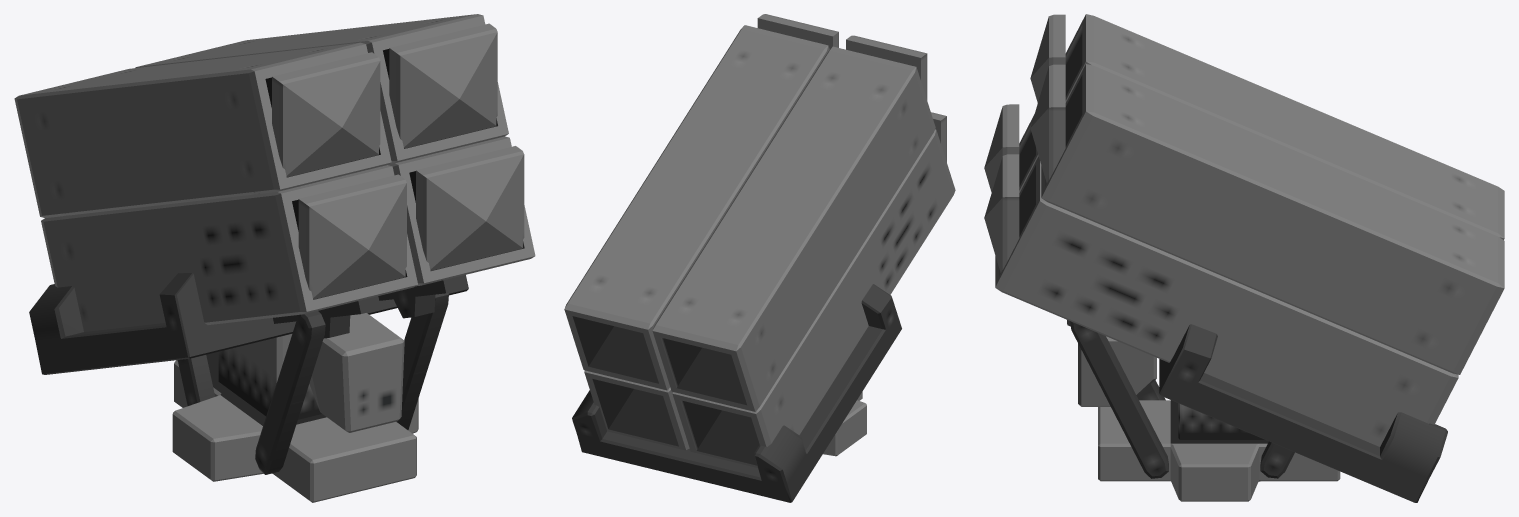
File: surface_missile_launcher.fbx
3 views of the same model, side by side, from view 1: azimuth 30°, elevation 25°; view 2: azimuth 150°, elevation 25°; view 3: azimuth 270°, elevation 25° (orthographic). The views are drawn at different scales.
Visible parts, largest first — view 1: surface_missile_launcher, launcher_door_3, launcher_door_2, launcher_door_1, launcher_door_4; view 2: surface_missile_launcher, launcher_door_2, launcher_door_1; view 3: surface_missile_launcher, launcher_door_3, launcher_door_1, launcher_door_4, launcher_door_2.
Boxes of the visible parts, x1,y1,x2,y2 form: surface_missile_launcher: (14,14,535,502); launcher_door_3: (416,146,524,270); launcher_door_2: (272,52,380,177); launcher_door_1: (389,23,497,148); launcher_door_4: (298,174,406,299); surface_missile_launcher: (564,25,955,502); launcher_door_2: (846,35,927,99); launcher_door_1: (757,14,838,49); surface_missile_launcher: (995,14,1504,502); launcher_door_3: (984,154,1019,272); launcher_door_1: (1030,64,1065,182); launcher_door_4: (984,104,1019,192); launcher_door_2: (1030,14,1065,102).
Size of the model in its own units: 86.45 by 134 by 159.
Materials: 1 (1 with a texture image).
